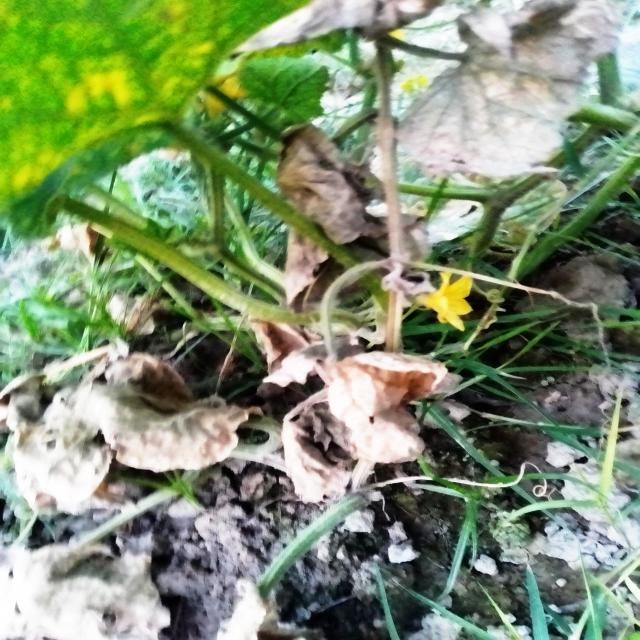Bacterial-Wilt: (325, 338, 446, 461), (269, 408, 351, 503)
